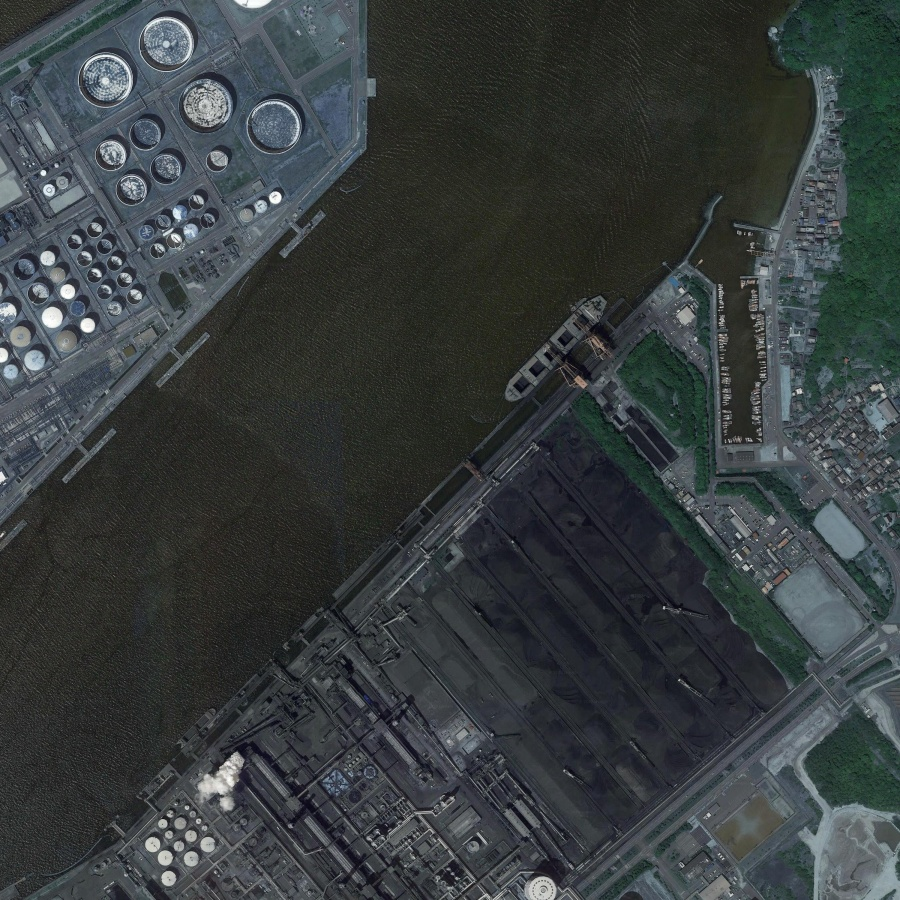PowerPlant: (416, 423, 802, 817)
